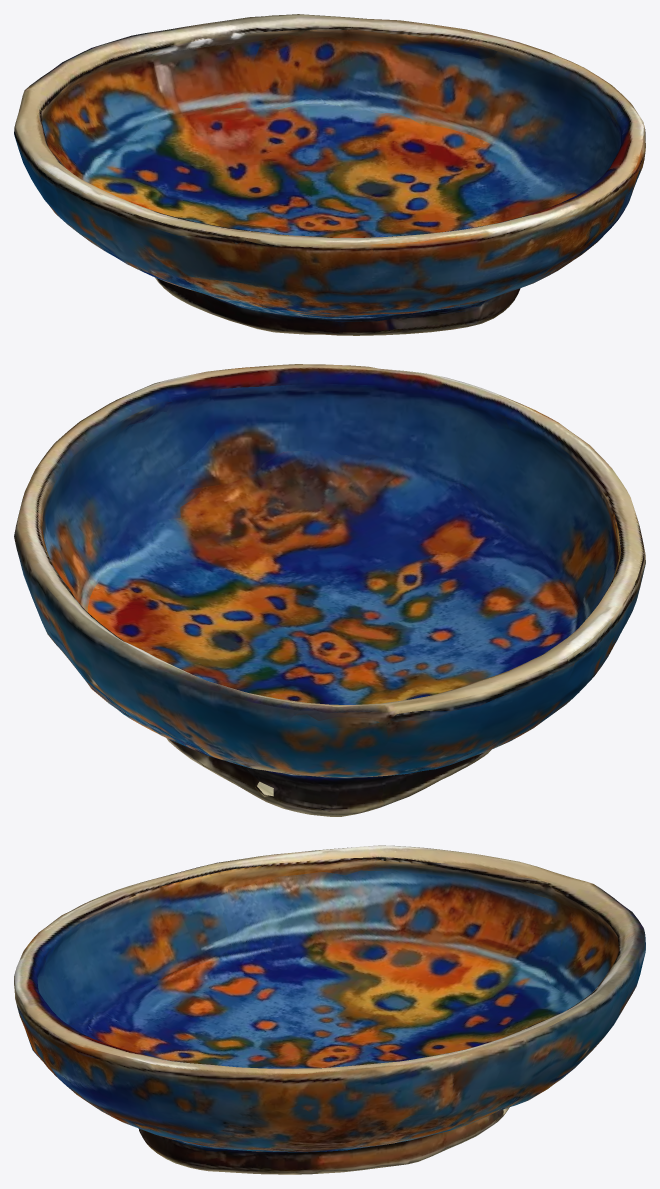
File: plate.glb
The picture shows the model from 3 angles, top to bottom: view 1: azimuth 30°, elevation 25°; view 2: azimuth 150°, elevation 25°; view 3: azimuth 270°, elevation 25°; orthographic projection. The views are drawn at different scales.
Visible parts, largest first — view 1: geometry_0; view 2: geometry_0; view 3: geometry_0.
Boxes of the visible parts, x1,y1,x2,y2 form: geometry_0: [14, 14, 645, 335]; geometry_0: [14, 364, 645, 816]; geometry_0: [14, 845, 645, 1174].
Size of the model in its own units: 0.8966 by 0.2949 by 0.9599.
Materials: 1 (1 with a texture image).
